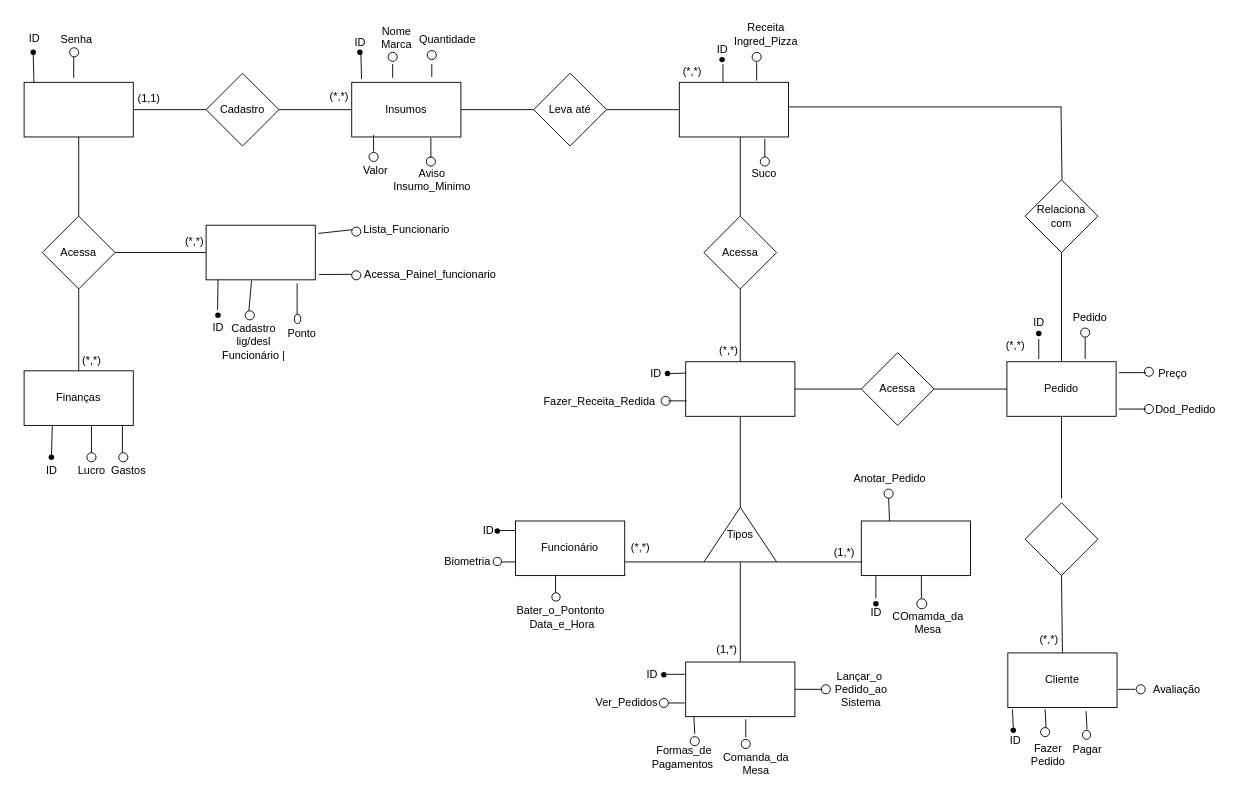
Some shapes in this 1249 by 797 pixel diagram are drawn without their labels. The box of each missing label's shape, as (x1, y1, x2, y2) in pixels:
Administrador: (23, 81, 133, 137)
Cadastro_Financeiro: (205, 224, 315, 280)
Caixa: (685, 661, 795, 717)
Cozinheiro: (685, 361, 795, 416)
Efetuado Pelo: (1024, 502, 1098, 576)
Garçon: (860, 520, 971, 576)
Receita: (678, 81, 789, 137)
